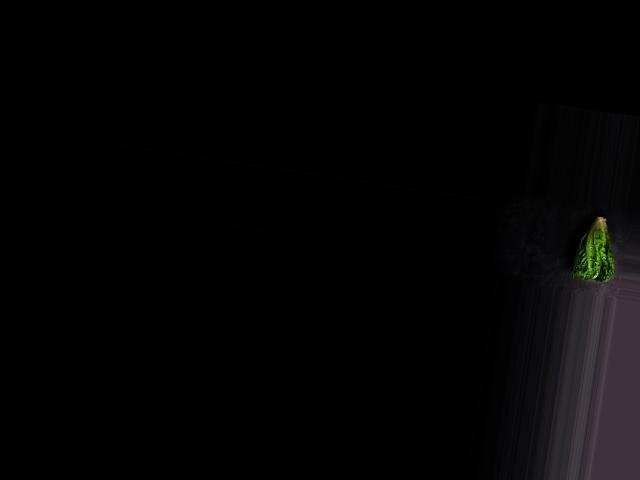lettuce: (567, 208, 623, 284)
